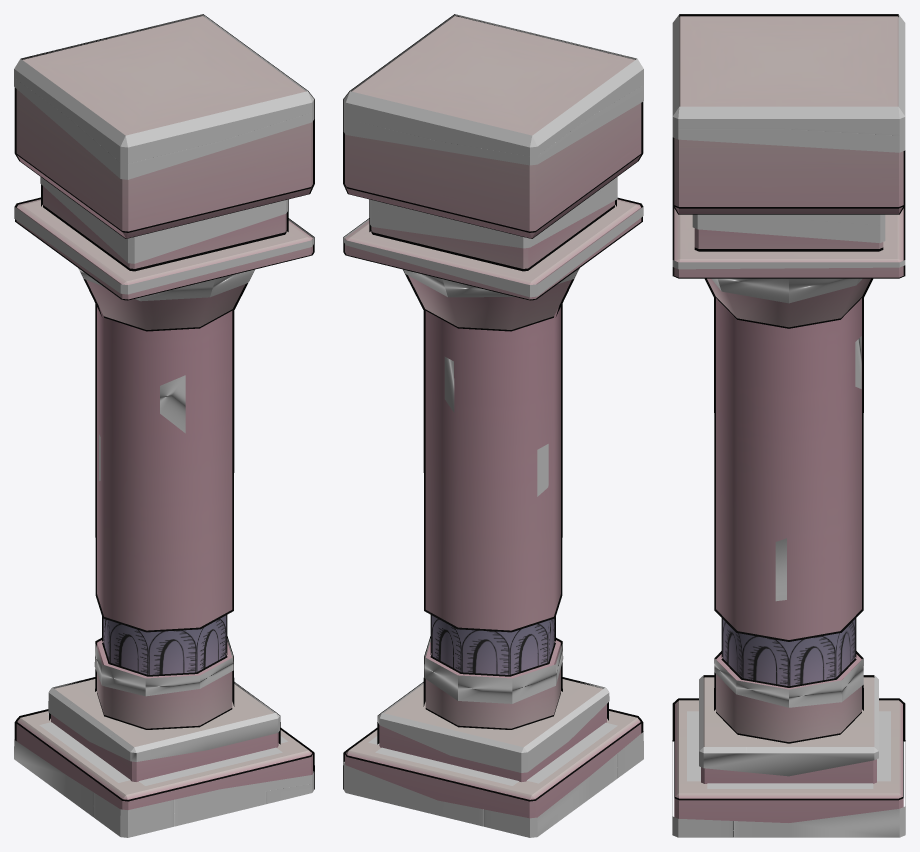
Rendered from Rooms_Paradise_Column_Regular_Art.fbx.
3 renders of one model, left to right at view 1: azimuth 30°, elevation 25°; view 2: azimuth 150°, elevation 25°; view 3: azimuth 270°, elevation 25°, orthographic. The views are drawn at different scales.
Visible parts, largest first — view 1: Rooms_Paradise_Column_Regular_Art, Rooms_Paradise_Column01_Shadows, Rooms_Paradise_Column01_Outliner; view 2: Rooms_Paradise_Column_Regular_Art, Rooms_Paradise_Column01_Shadows, Rooms_Paradise_Column01_Outliner; view 3: Rooms_Paradise_Column_Regular_Art, Rooms_Paradise_Column01_Shadows, Rooms_Paradise_Column01_Outliner.
Boxes of the visible parts, x1,y1,x2,y2 form: Rooms_Paradise_Column_Regular_Art: [16, 16, 312, 809]; Rooms_Paradise_Column01_Shadows: [14, 14, 314, 837]; Rooms_Paradise_Column01_Outliner: [14, 14, 314, 789]; Rooms_Paradise_Column_Regular_Art: [345, 16, 641, 818]; Rooms_Paradise_Column01_Shadows: [343, 14, 643, 837]; Rooms_Paradise_Column01_Outliner: [343, 14, 643, 789]; Rooms_Paradise_Column_Regular_Art: [674, 16, 903, 822]; Rooms_Paradise_Column01_Shadows: [672, 14, 905, 837]; Rooms_Paradise_Column01_Outliner: [672, 14, 905, 741].
Size of the model in its own units: 102 by 351 by 102.
